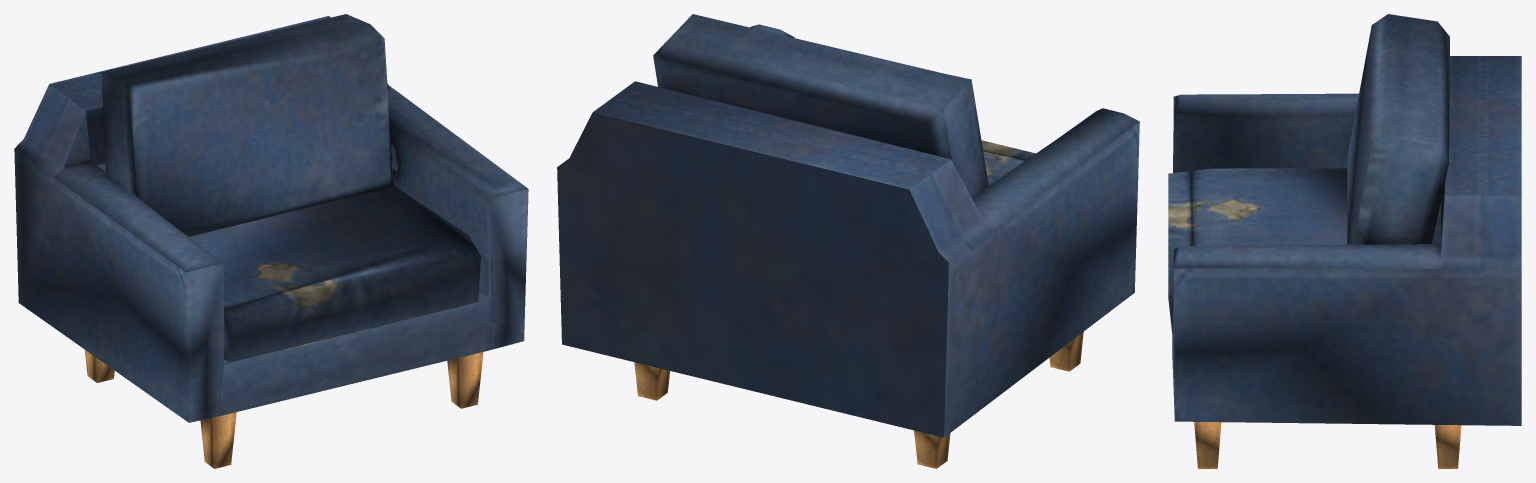
Rendered from Prop_Sofa02_lod1.glb.
3 views of the same model, side by side, from view 1: azimuth 30°, elevation 25°; view 2: azimuth 150°, elevation 25°; view 3: azimuth 270°, elevation 25° (orthographic). The views are drawn at different scales.
Parts seen in each view (by area): view 1: xiutz_sofa02_lod1; view 2: xiutz_sofa02_lod1; view 3: xiutz_sofa02_lod1.
Boxes of the visible parts, x1,y1,x2,y2 form: xiutz_sofa02_lod1: [14, 14, 528, 468]; xiutz_sofa02_lod1: [557, 14, 1139, 468]; xiutz_sofa02_lod1: [1168, 14, 1521, 468].
Bounding box in the file's own units: 2.11 × 1.85 × 1.82.
1 material, 1 textured.
